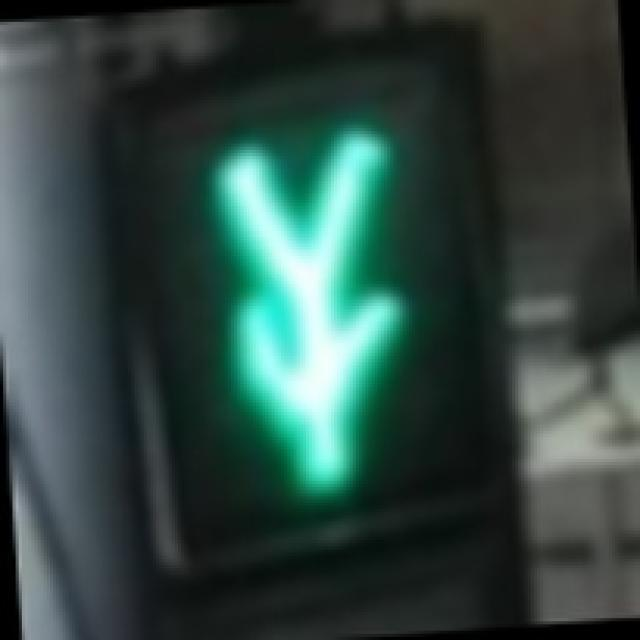geen-crossing: (150, 90, 481, 540)
